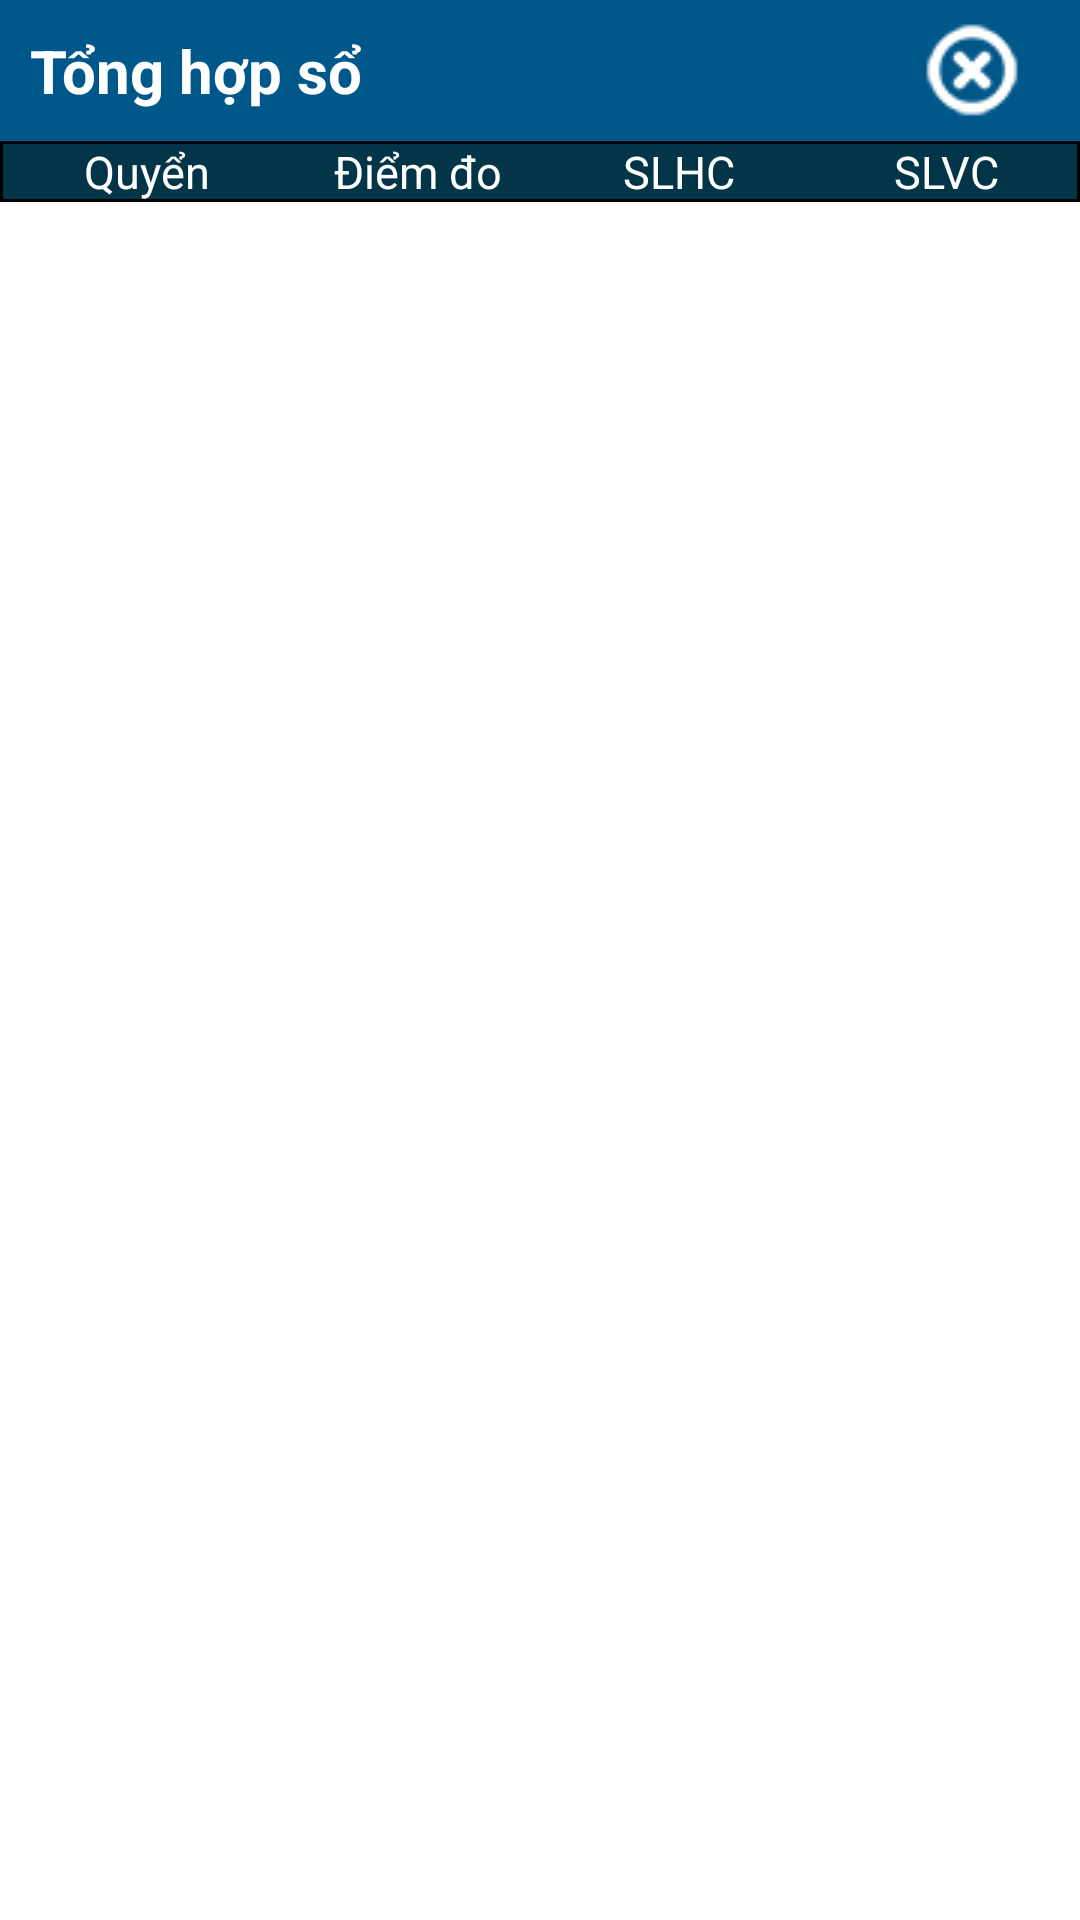

Locate icon controls on the screen. Image size 1080x1920, boxes as (x1, y1, x2, y2).
gcs close: (926, 24, 1018, 116)
